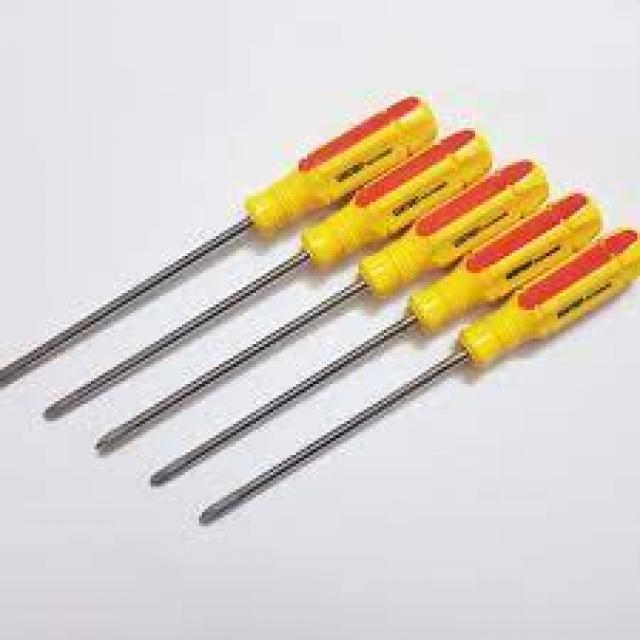screwdriver: (158, 195, 482, 422)
